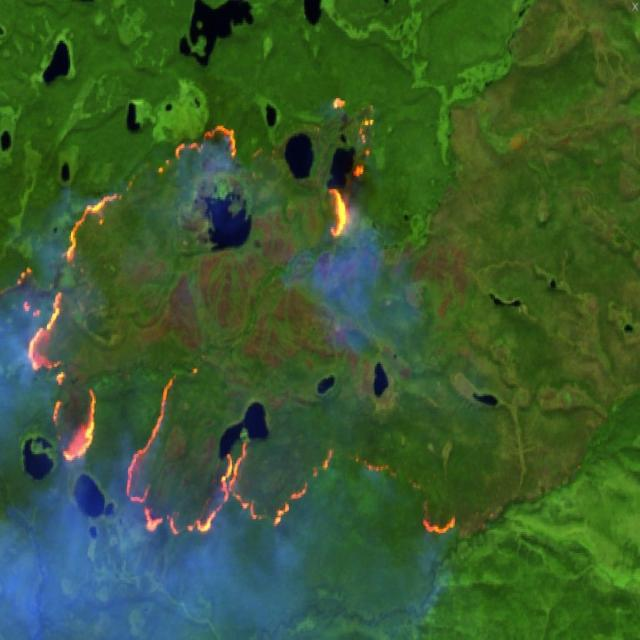fire: (19, 93, 458, 537)
